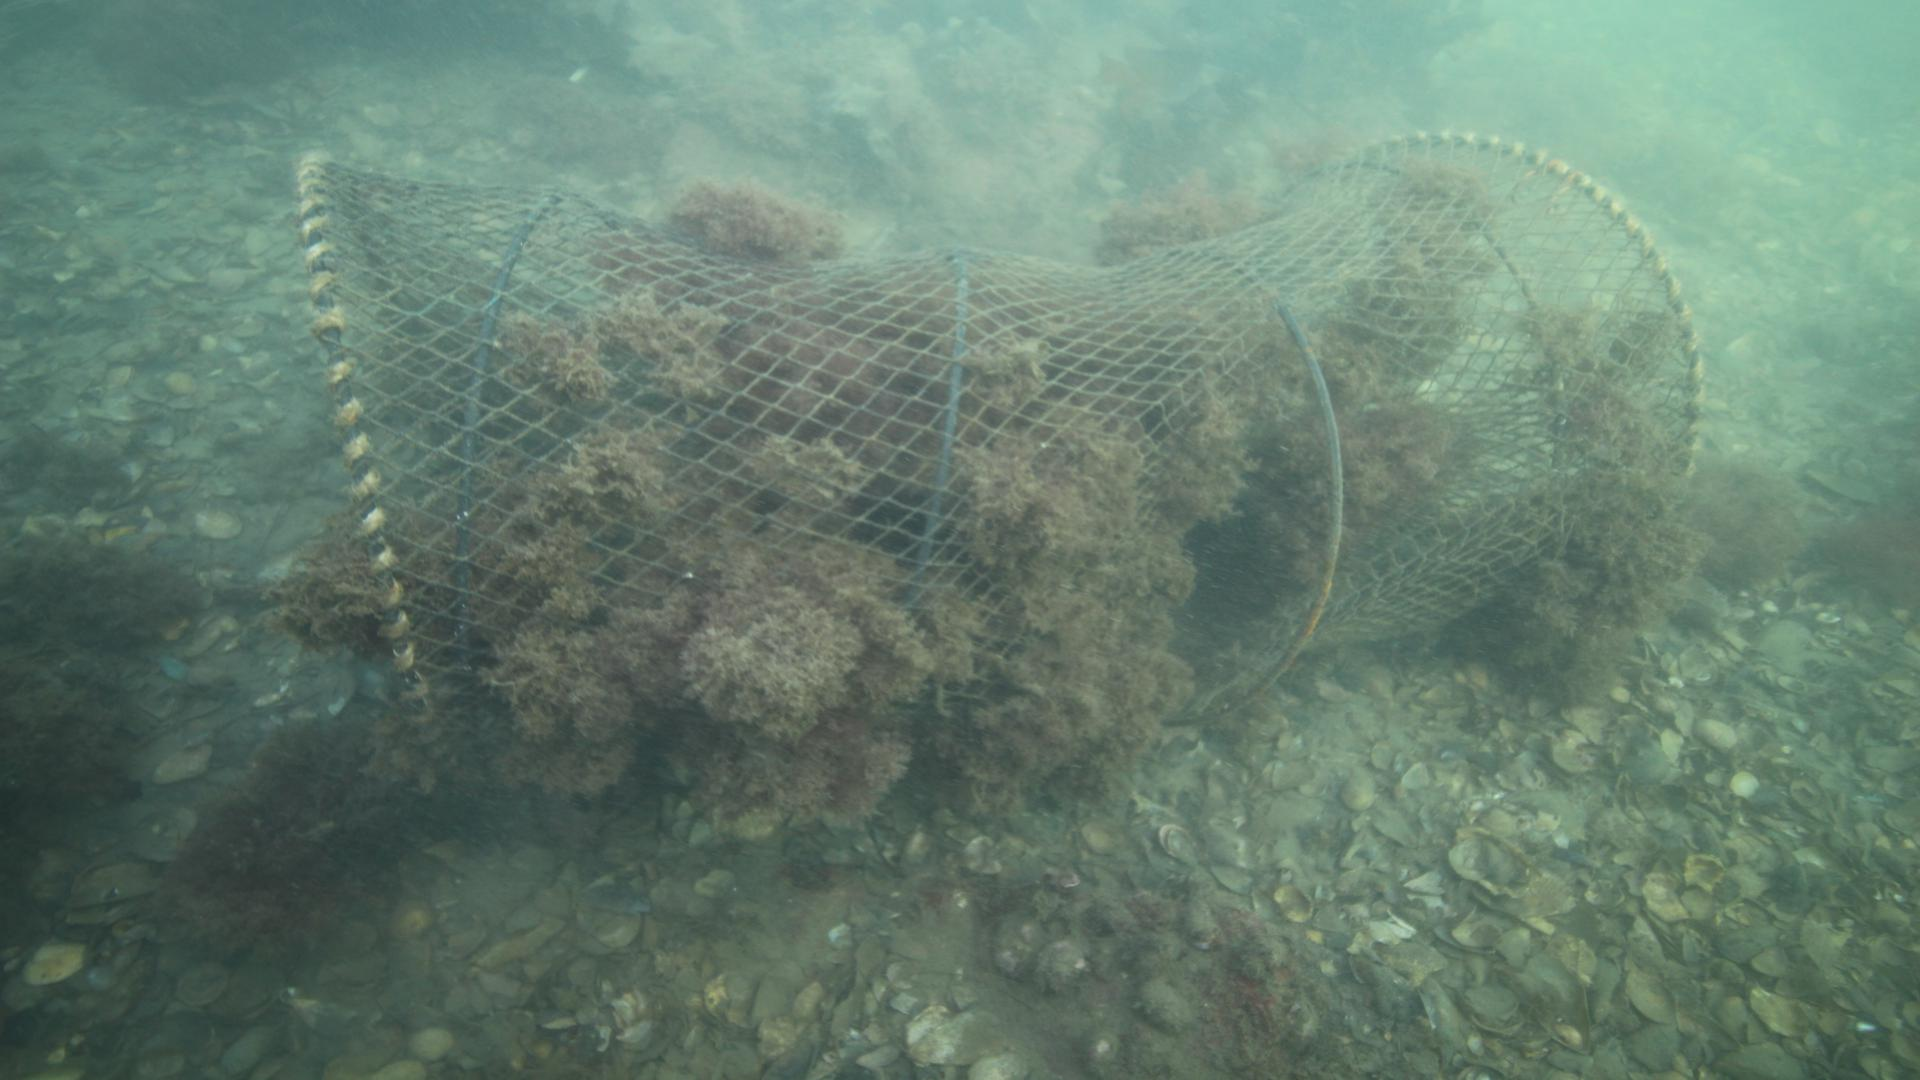spring fish trap: (290, 127, 1704, 781)
